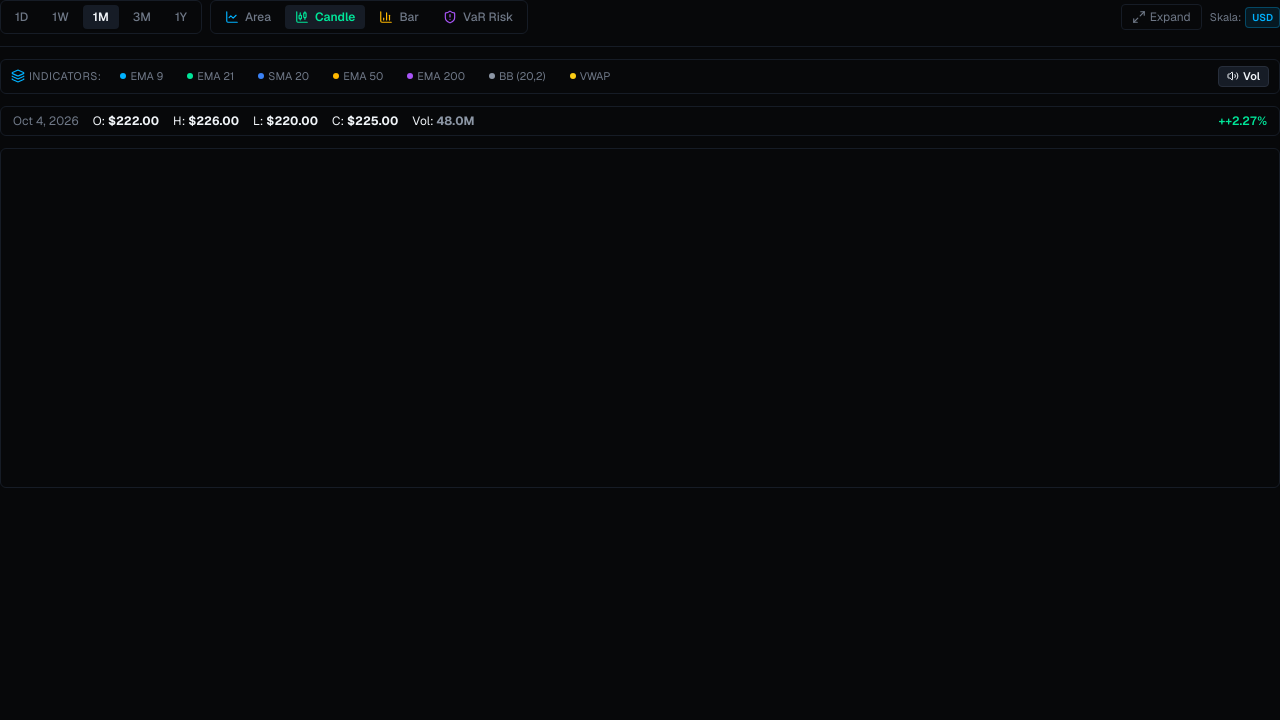
Scenario: PriceChart component › switches to VaR Risk view and displays Value at Risk metrics
What coordinates should you click on to do the following:
click the button "VaR Risk"
I would click on:
 (478, 17)
Its box is [433,5,523,29].
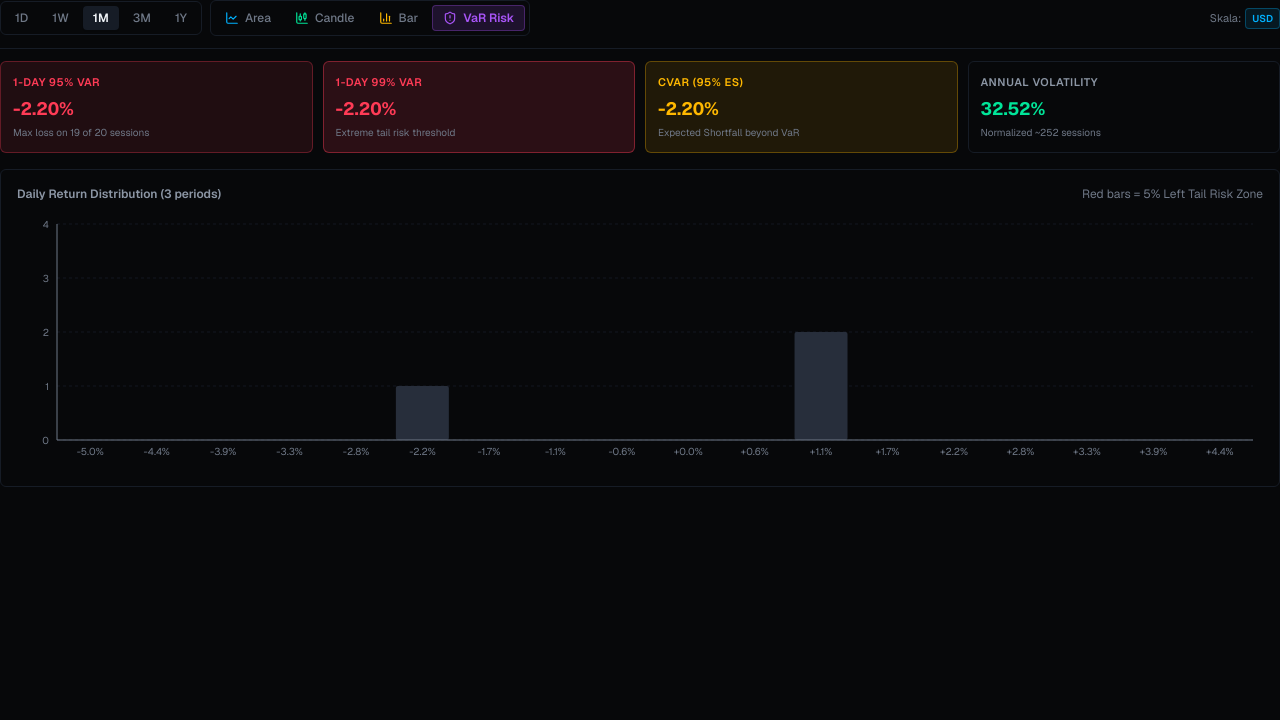
Expected: the text "1-Day 95% VaR" is shown, [13,75,100,89]
Expected: the text "1-Day 99% VaR" is shown, [336,75,422,89]
Expected: the text "CVaR (95% ES)" is shown, [658,75,743,89]
